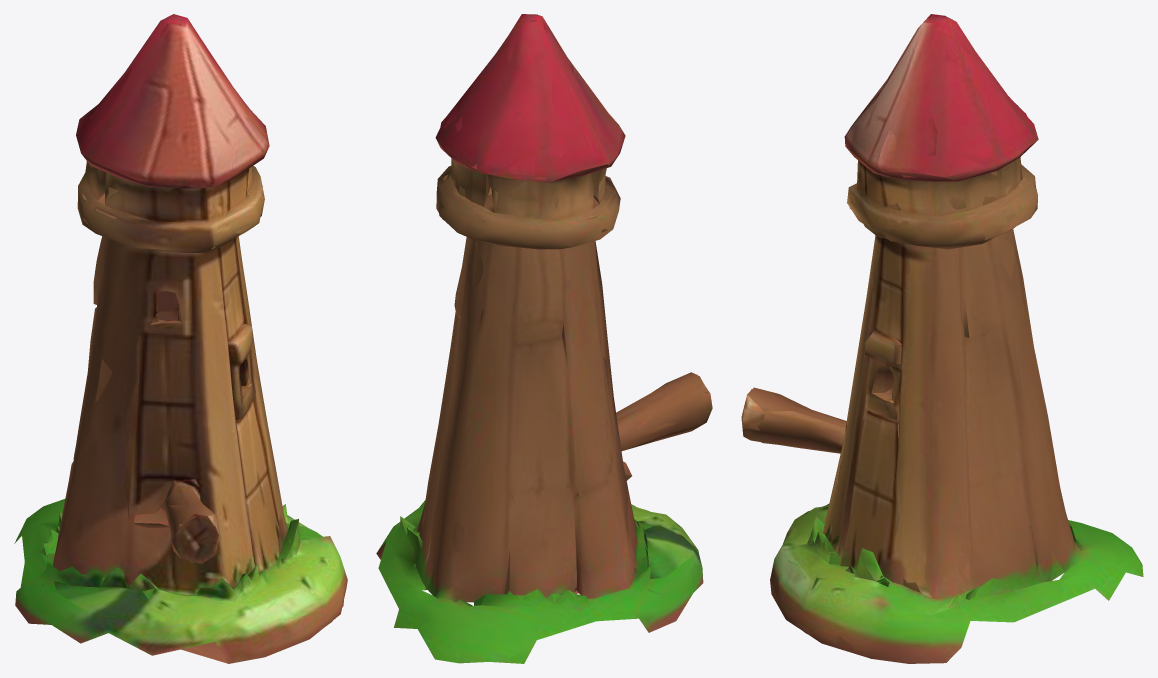
File: millBody.glb
3 renders of one model, left to right at view 1: azimuth 30°, elevation 25°; view 2: azimuth 150°, elevation 25°; view 3: azimuth 270°, elevation 25°, orthographic.
Visible parts, largest first — view 1: level; view 2: level; view 3: level.
Boxes of the visible parts, x1,y1,x2,y2 form: level: [14, 14, 347, 663]; level: [376, 14, 712, 663]; level: [741, 14, 1143, 663].
Size of the model in its own units: 0.4607 by 0.866 by 0.5482.
1 material, 1 textured.
